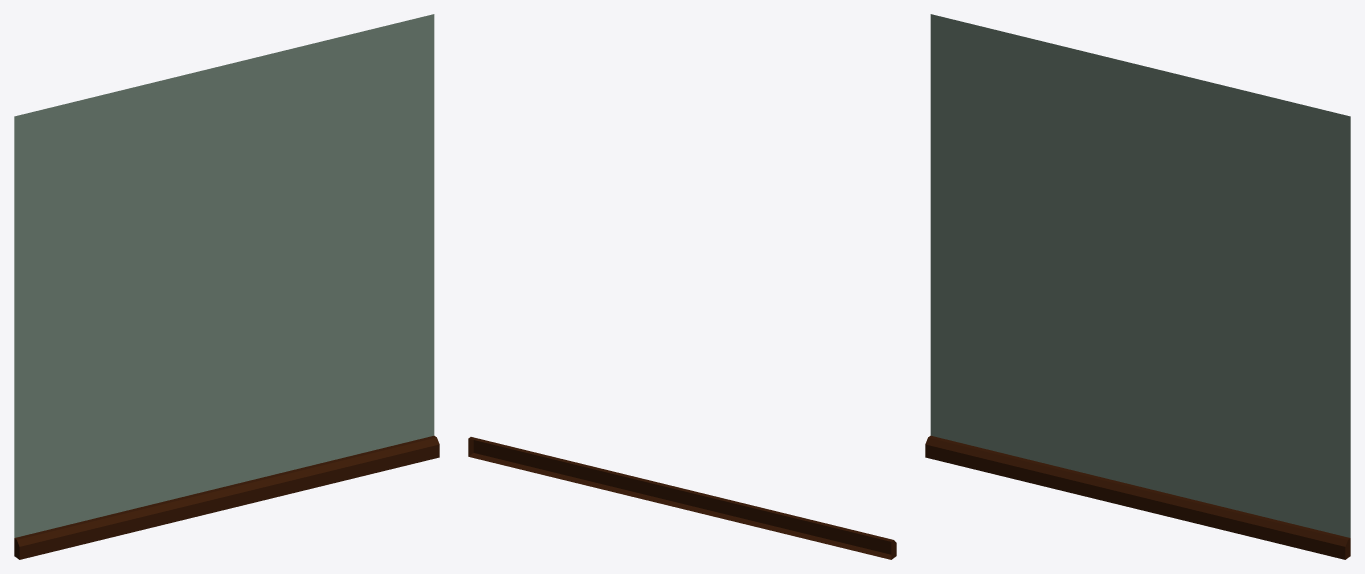
File: wall_shelf.glb
The picture shows the model from 3 angles, left to right: view 1: azimuth 30°, elevation 25°; view 2: azimuth 150°, elevation 25°; view 3: azimuth 330°, elevation 25°; orthographic projection.
Visible parts, largest first — view 1: wall-1-flat; view 2: wall-1-flat; view 3: wall-1-flat.
Boxes of the visible parts, bbox=[...] form: wall-1-flat: bbox=[14, 14, 439, 559]; wall-1-flat: bbox=[468, 437, 896, 559]; wall-1-flat: bbox=[925, 14, 1350, 559].
Bounding box in the file's own units: 3.66 × 3.66 × 0.0802.
